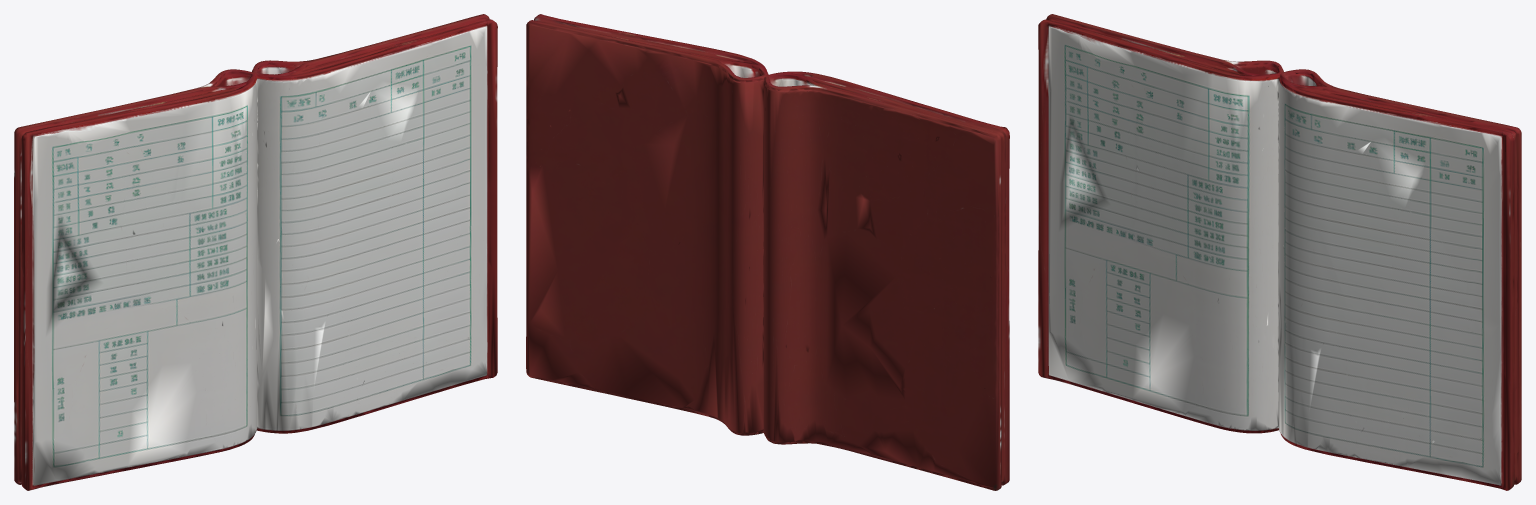
The model's file is duty-report-lite.glb.
3 views of the same model, side by side, from view 1: azimuth 30°, elevation 25°; view 2: azimuth 150°, elevation 25°; view 3: azimuth 330°, elevation 25° (orthographic).
Visible parts, largest first — view 1: node_0; view 2: node_0; view 3: node_0.
Boxes of the visible parts, x1,y1,x2,y2 form: node_0: (14, 14, 497, 490); node_0: (526, 14, 1009, 490); node_0: (1038, 14, 1521, 490).
Bounding box in the file's own units: 0.9813 × 0.7063 × 0.0969.
Materials: 1 (1 with a texture image).
